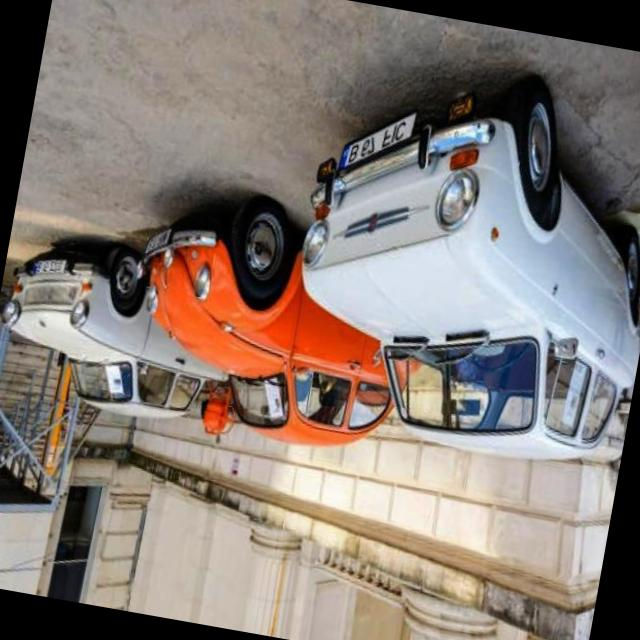car: (283, 78, 640, 469), (117, 193, 451, 469), (0, 227, 249, 438)
